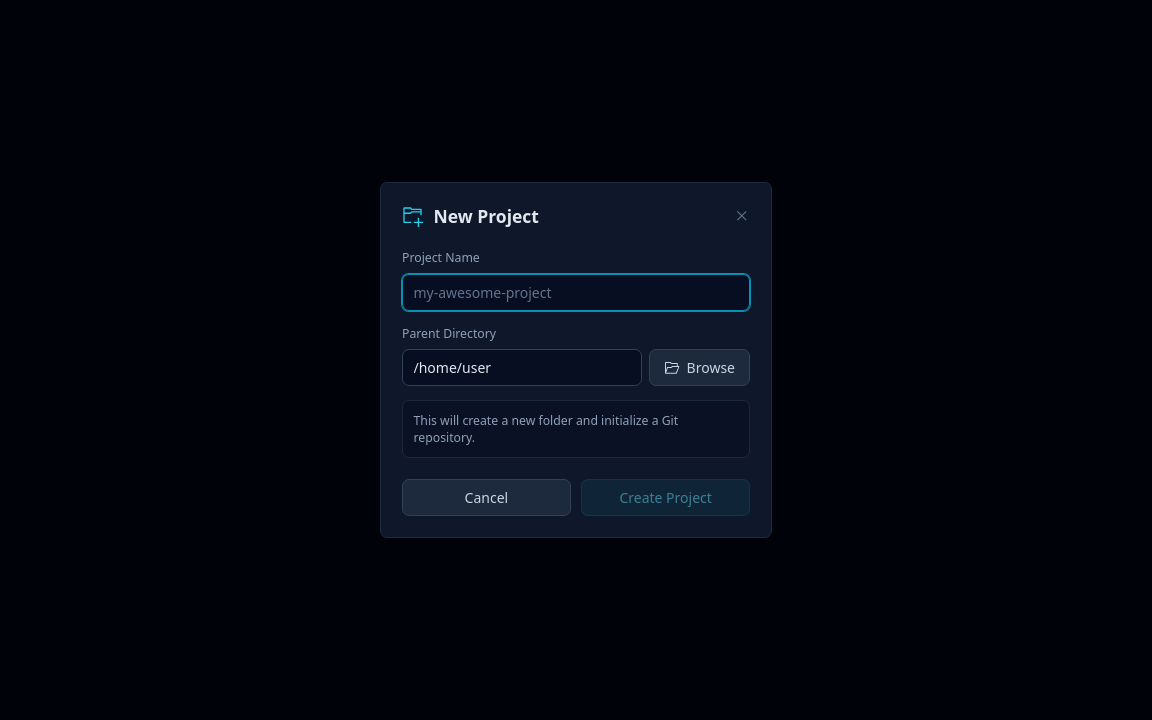
Test case: NewProjectDialog › shows error when project creation fails
Type "test-project" into the field with placeholder "my-awesome-project".
click(576, 292); type("test-project")  # box 402,274 -> 750,311
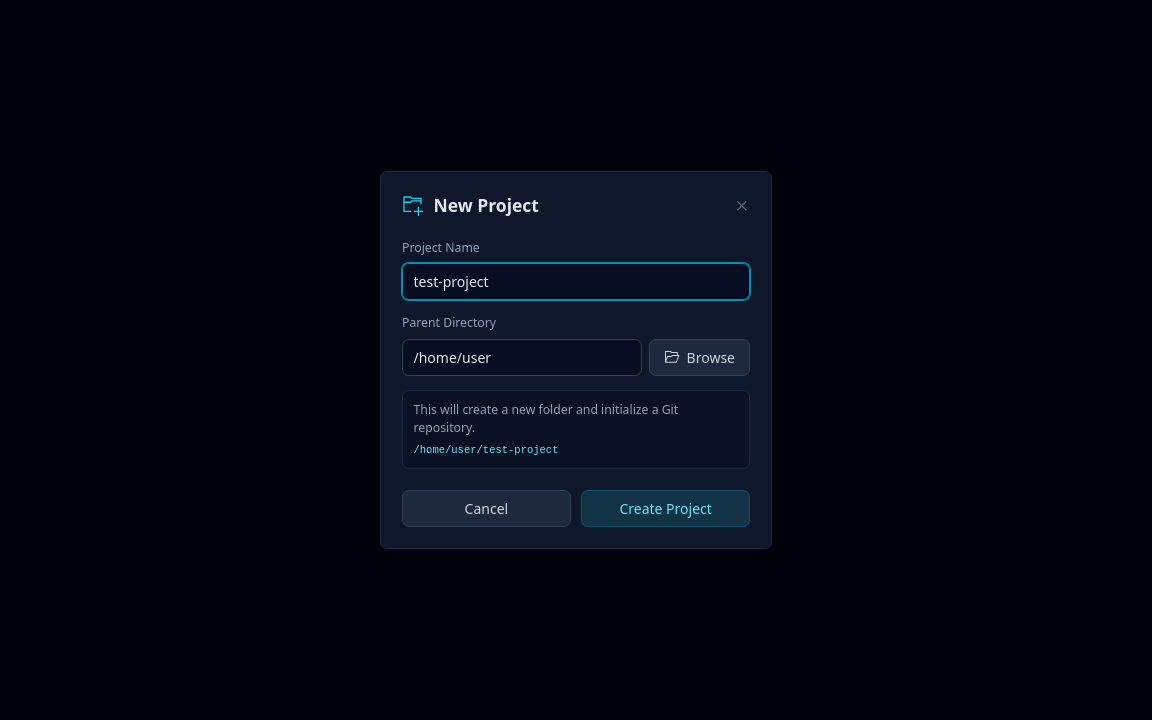
Click the button "Create Project".
click(666, 508)  # box 581,490 -> 750,527
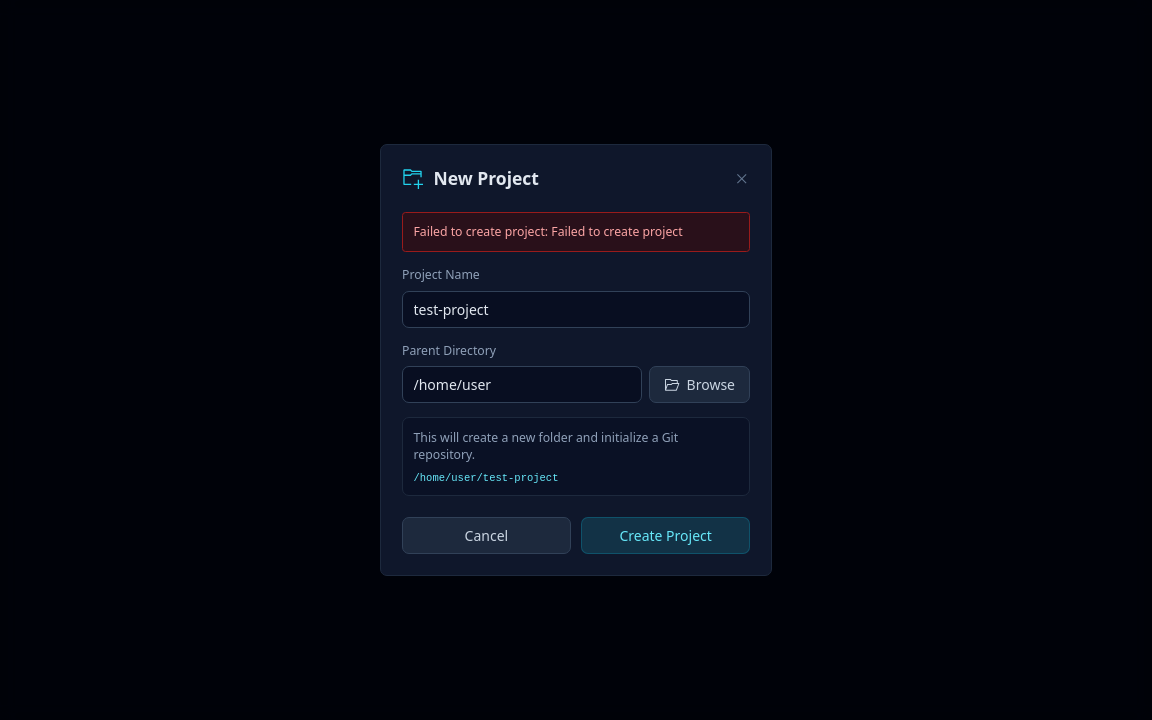
Expected: the button "Create Project" is enabled, 581,517 -> 750,554
Expected: the text "Failed to create project: Failed to create project" is shown, 402,212 -> 750,252
